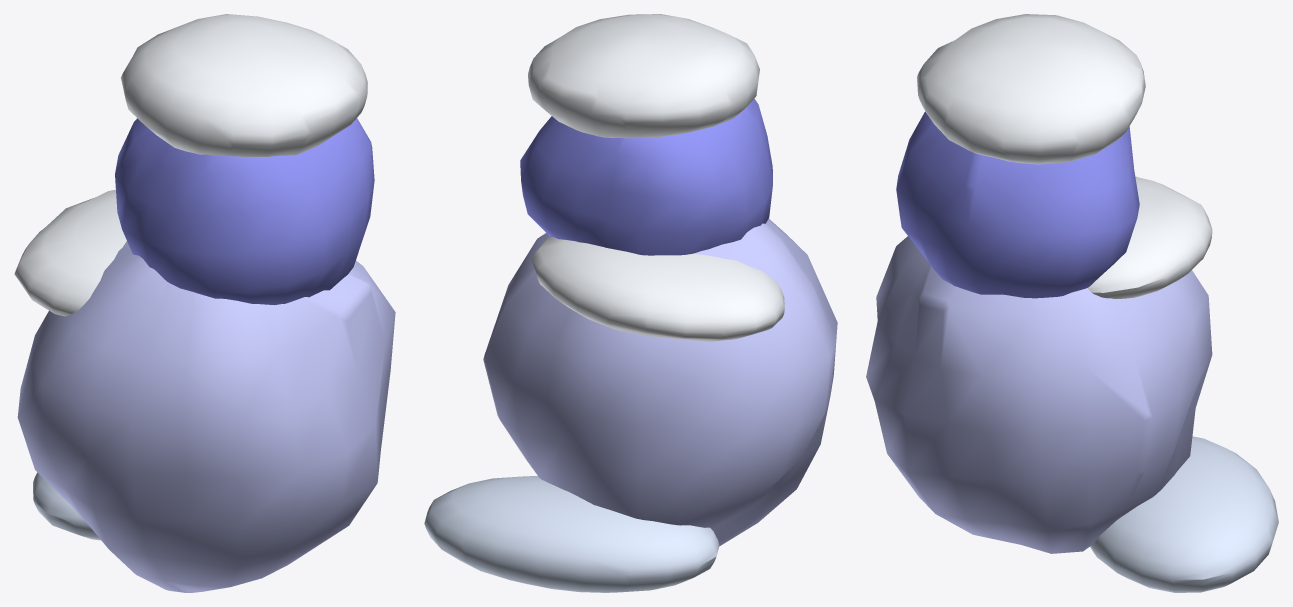
The model's file is SnowRockB.glb.
The picture shows the model from 3 angles, left to right: view 1: azimuth 30°, elevation 25°; view 2: azimuth 150°, elevation 25°; view 3: azimuth 270°, elevation 25°; orthographic projection. The views are drawn at different scales.
Visible parts, largest first — view 1: SnowRockB; view 2: SnowRockB; view 3: SnowRockB.
Part boxes in pixels (x1,y1,x2,y2): SnowRockB: (14,14,395,592); SnowRockB: (424,14,837,592); SnowRockB: (866,14,1278,592).
Size of the model in its own units: 9.6 by 14.24 by 10.32.
Materials: 1 (1 with a texture image).
